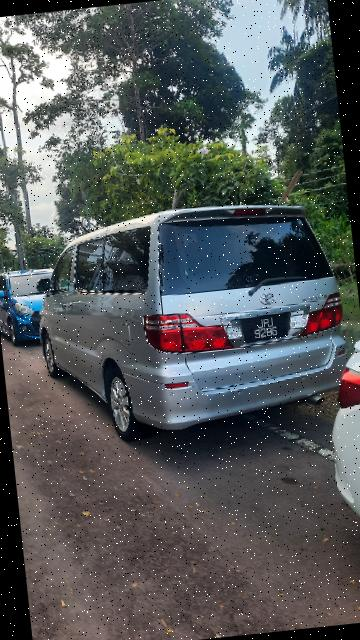License_Plate: (237, 310, 293, 345)
car: (26, 192, 357, 451)
